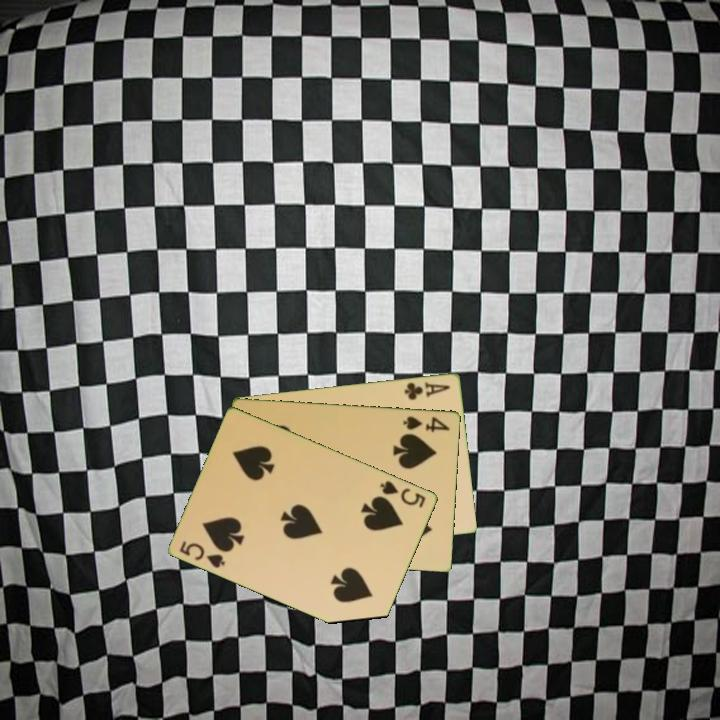4s: (400, 412, 453, 435)
5s: (176, 537, 229, 571), (377, 477, 429, 511)
Ac: (401, 378, 453, 402)
